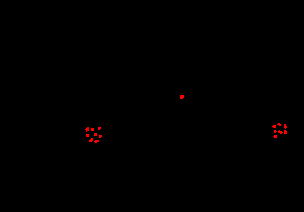Target: (85, 127, 89, 132), (278, 130, 283, 134), (180, 95, 184, 99), (89, 138, 93, 142), (284, 124, 287, 129), (94, 140, 99, 143), (277, 123, 281, 126), (272, 125, 276, 128), (284, 130, 287, 134), (273, 135, 277, 138), (98, 127, 101, 130), (91, 128, 94, 131), (274, 130, 277, 133), (94, 133, 97, 136), (86, 134, 89, 137), (99, 135, 102, 138)
